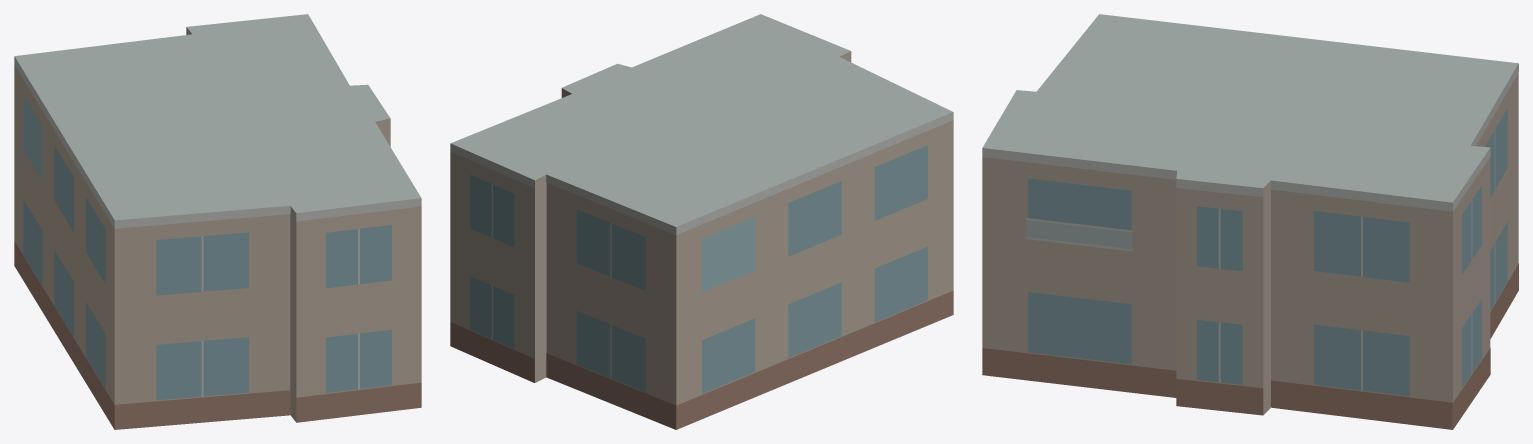
The model's file is survey-upis-32539406.glb.
The picture shows the model from 3 angles, left to right: view 1: azimuth 30°, elevation 25°; view 2: azimuth 150°, elevation 25°; view 3: azimuth 270°, elevation 25°; orthographic projection. The views are drawn at different scales.
Visible parts, largest first — view 1: survey-upis-32539406.tmp; view 2: survey-upis-32539406.tmp; view 3: survey-upis-32539406.tmp.
Boxes of the visible parts, x1,y1,x2,y2 form: survey-upis-32539406.tmp: (14, 14, 421, 429); survey-upis-32539406.tmp: (450, 14, 953, 429); survey-upis-32539406.tmp: (982, 14, 1518, 429).
Size of the model in its own units: 10.88 by 6.1 by 13.06.
